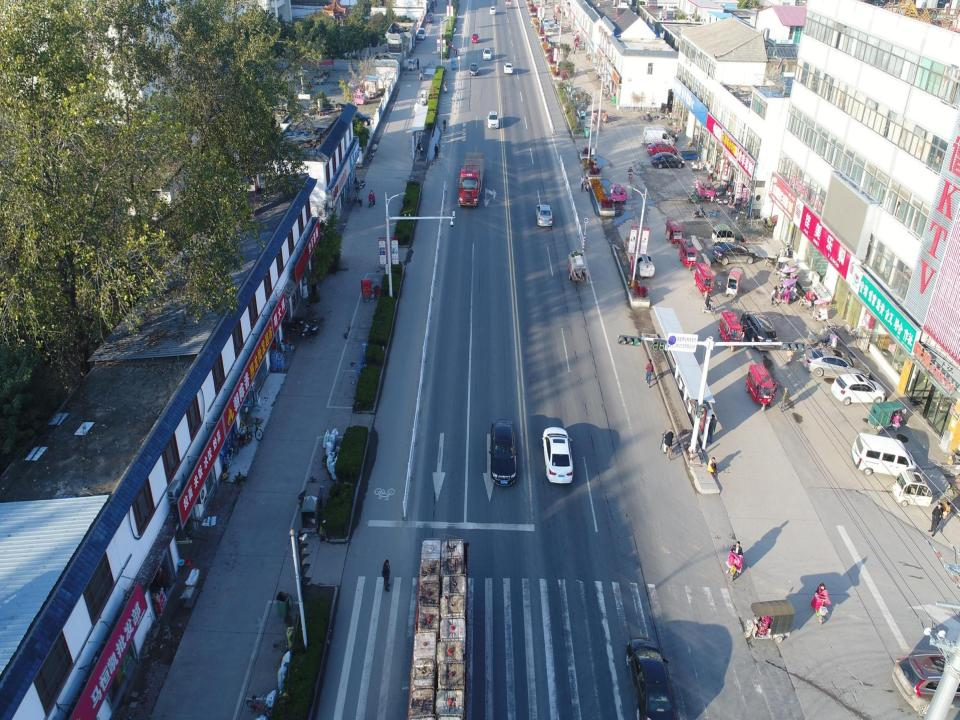car: (624, 634, 678, 720), (486, 416, 521, 488), (804, 345, 872, 382), (541, 422, 576, 485), (830, 373, 888, 406), (742, 308, 778, 351), (711, 241, 758, 266), (651, 152, 685, 171), (645, 141, 678, 158), (536, 202, 555, 228), (346, 109, 370, 125), (484, 111, 500, 129), (468, 63, 479, 77), (482, 47, 493, 61), (504, 60, 514, 74), (470, 32, 479, 43), (426, 12, 434, 24), (542, 18, 549, 27), (490, 6, 496, 16), (435, 0, 437, 7)
truck: (404, 531, 474, 717), (454, 149, 484, 208)
van: (850, 430, 917, 480), (641, 125, 676, 149), (809, 320, 841, 342), (650, 124, 678, 140), (417, 27, 426, 40)
